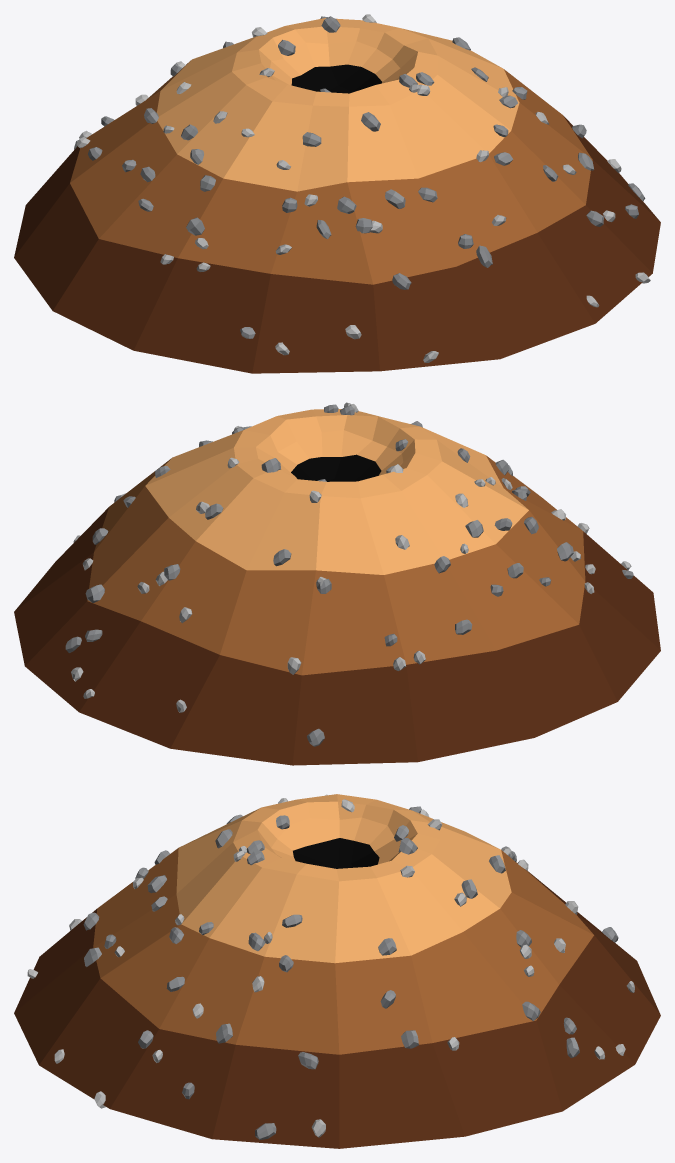
Rendered from Anthill.fbx.
3 views of the same model, one above another, from view 1: azimuth 30°, elevation 25°; view 2: azimuth 150°, elevation 25°; view 3: azimuth 270°, elevation 25° (orthographic).
Parts seen in each view (by area): view 1: Anthill; view 2: Anthill; view 3: Anthill.
Part boxes in pixels (left/top/right/bottom): Anthill: left=14, top=14, right=660, bottom=373; Anthill: left=14, top=402, right=660, bottom=765; Anthill: left=14, top=794, right=660, bottom=1148.
Bounding box in the file's own units: 59.95 × 20.11 × 60.14.
